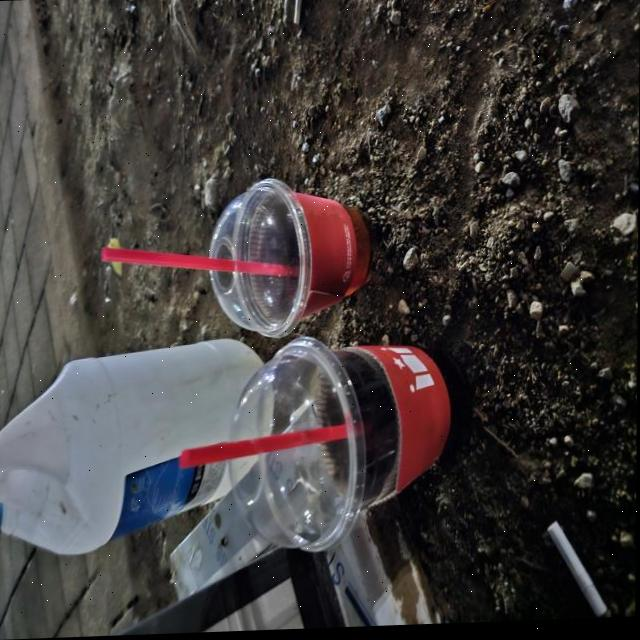cup: (216, 333, 479, 563), (203, 170, 377, 345)
